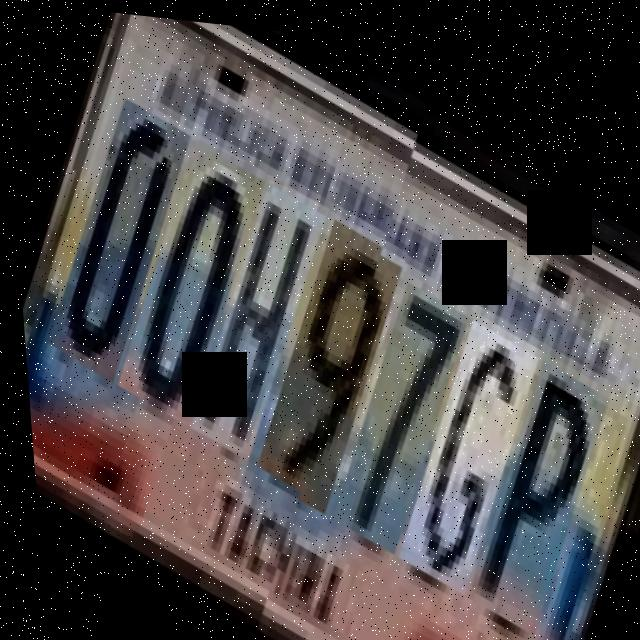0: (24, 88, 208, 387)
7: (312, 251, 487, 540)
9: (233, 200, 421, 502)
G: (377, 286, 557, 578)
H: (168, 164, 341, 460)
O: (94, 125, 282, 427)
P: (447, 324, 627, 616)
